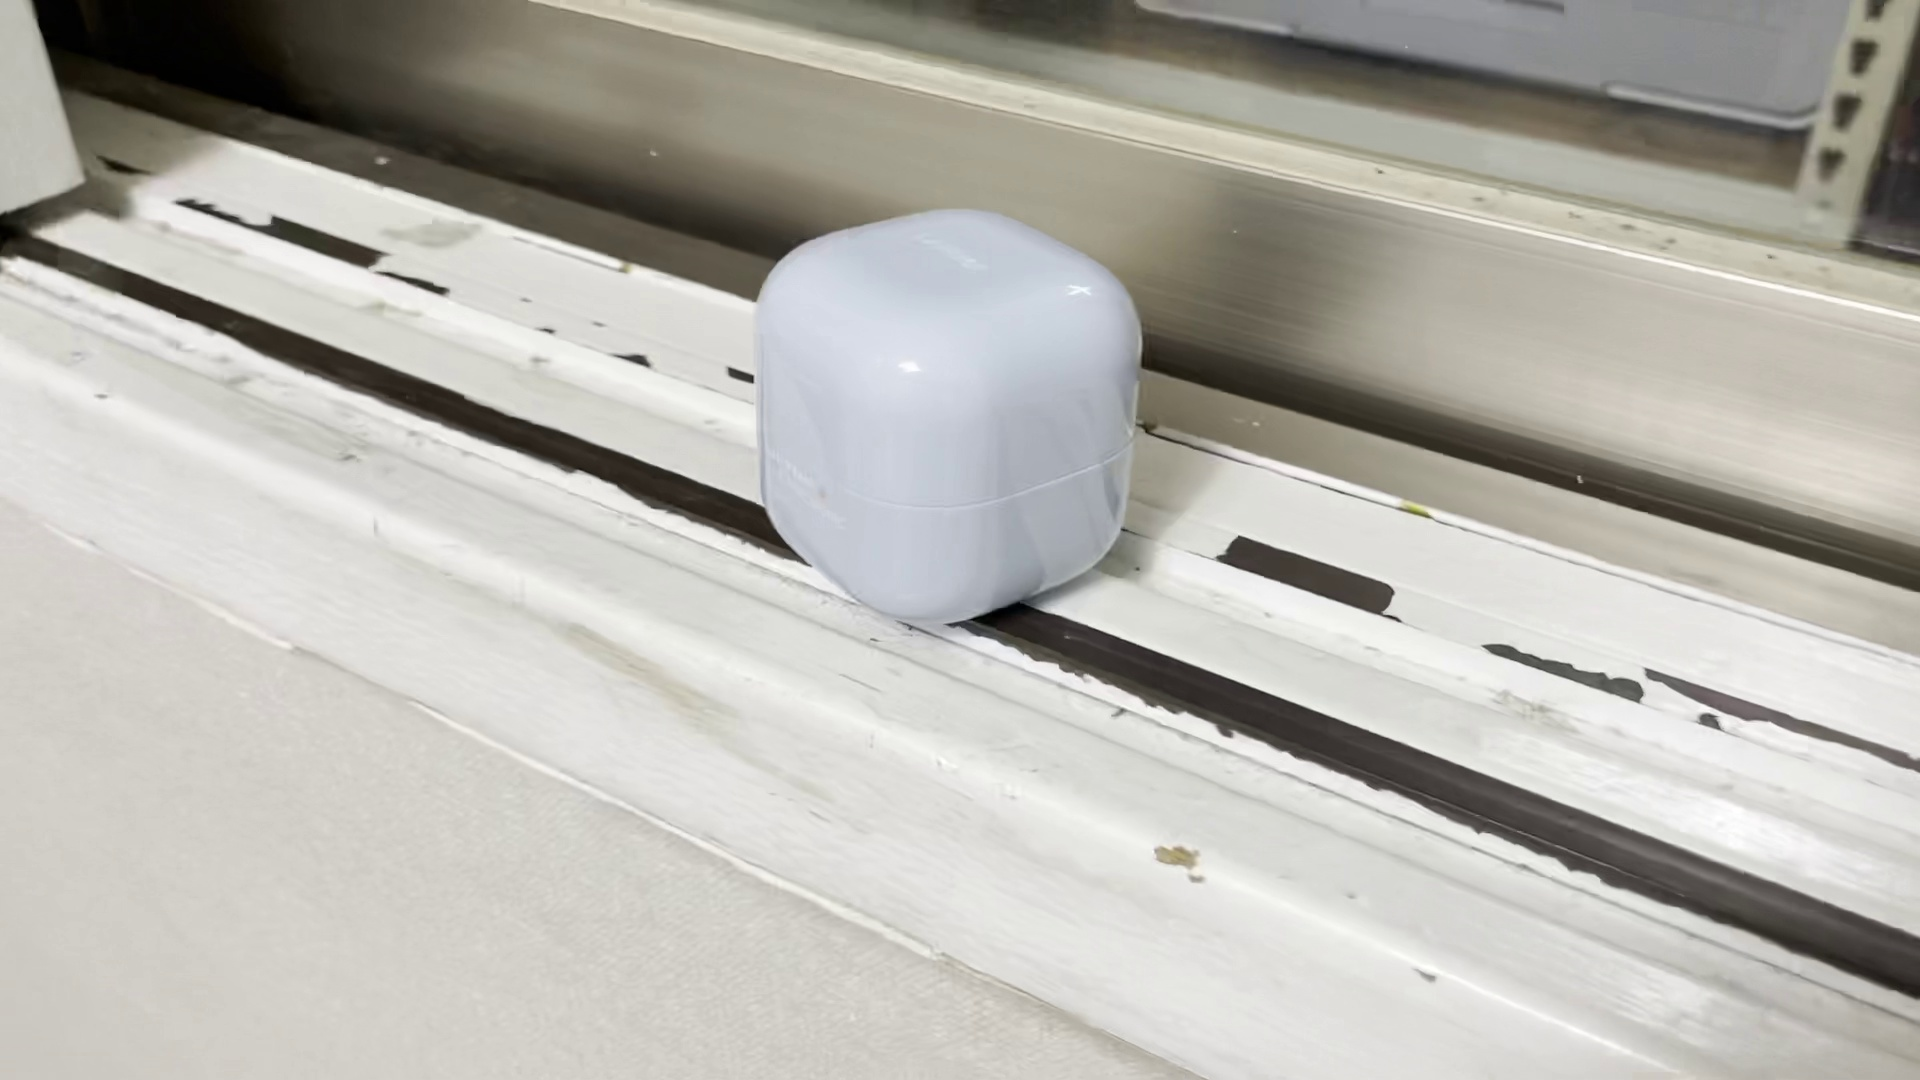cream: (752, 200, 1139, 621)
